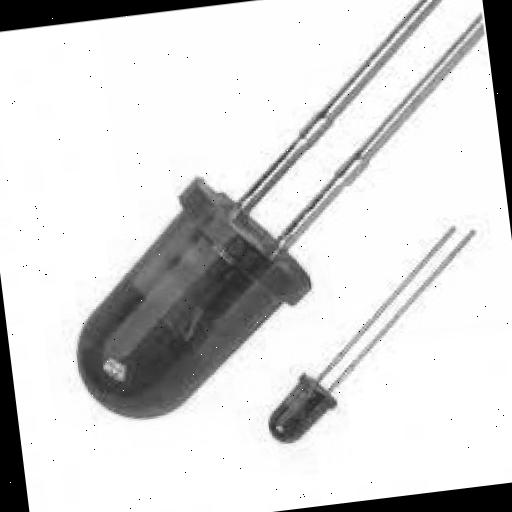LED: (15, 70, 332, 456), (266, 354, 388, 474)
